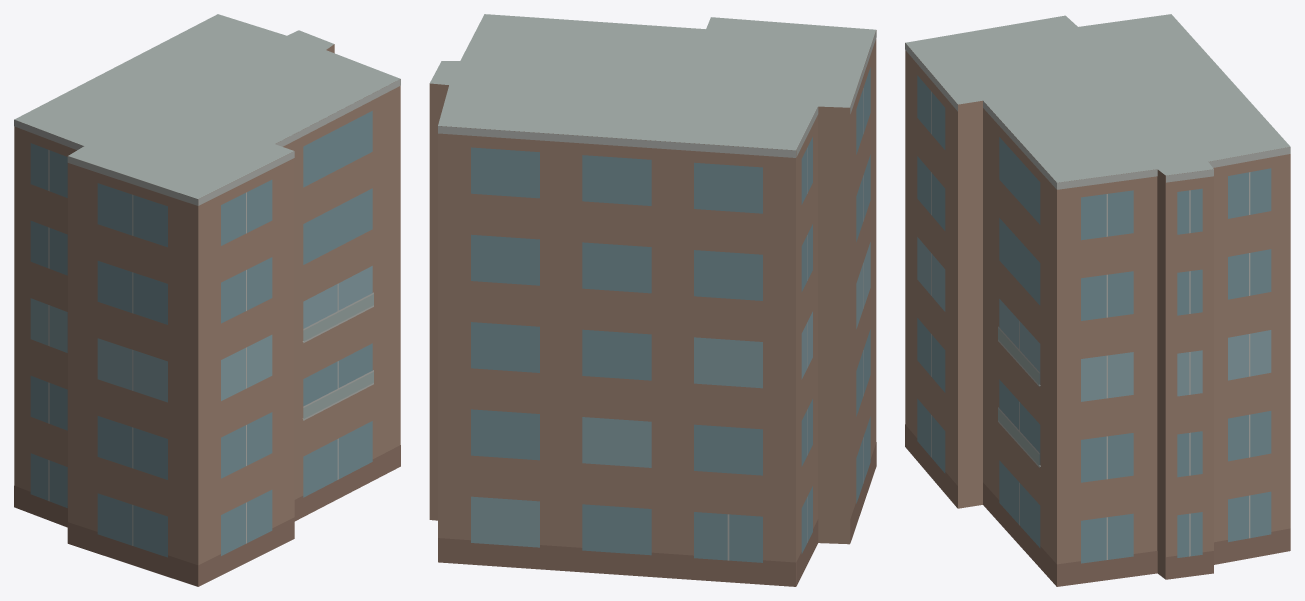
Rendered from survey-upis-32843955.glb.
3 views of the same model, side by side, from view 1: azimuth 30°, elevation 25°; view 2: azimuth 150°, elevation 25°; view 3: azimuth 270°, elevation 25° (orthographic). The views are drawn at different scales.
Visible parts, largest first — view 1: survey-upis-32843955.tmp; view 2: survey-upis-32843955.tmp; view 3: survey-upis-32843955.tmp.
Part boxes in pixels (bbox=[...]): survey-upis-32843955.tmp: bbox=[14, 14, 400, 586]; survey-upis-32843955.tmp: bbox=[429, 14, 876, 586]; survey-upis-32843955.tmp: bbox=[905, 14, 1290, 586].
Size of the model in its own units: 12.45 by 13.9 by 12.02.
